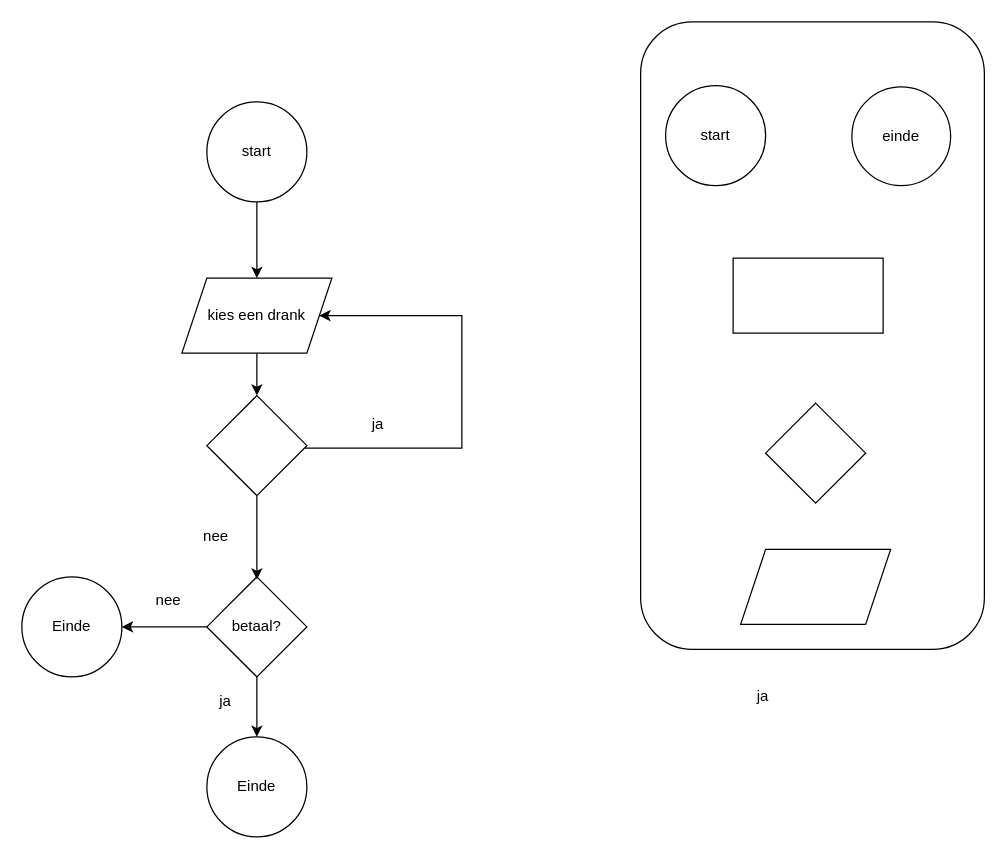
Image size: 1006x859. Some labels were removed from this diagram. The box of each missing label's shape, as (x1, y1, x2, y2) in pixels:
invoer uitvoer: (739, 548, 891, 624)
keuze: (764, 402, 866, 503)
nog een drank?: (206, 394, 307, 496)
proces: (732, 257, 883, 333)
